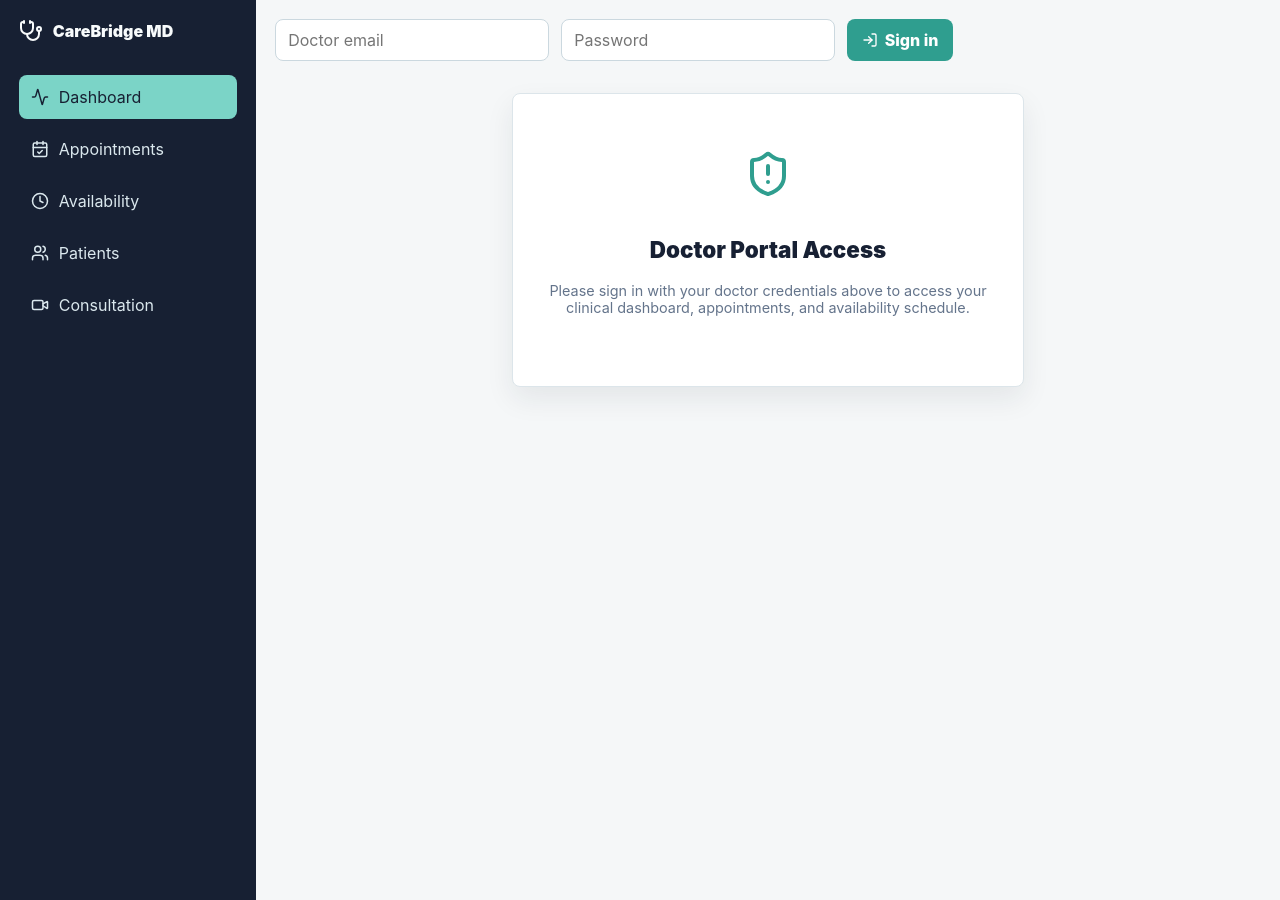
Doctor Dashboard: Real Component Workflow Tests › discards delayed responses from Doctor A session so they cannot overwrite Doctor B session
Note: Doctor A logs in
In the field with placeholder "Doctor email": (412, 40) [275,19,549,61], type "doctorA@example.com"
In the password field with placeholder "Password": (698, 40) [561,19,835,61], type "passA"
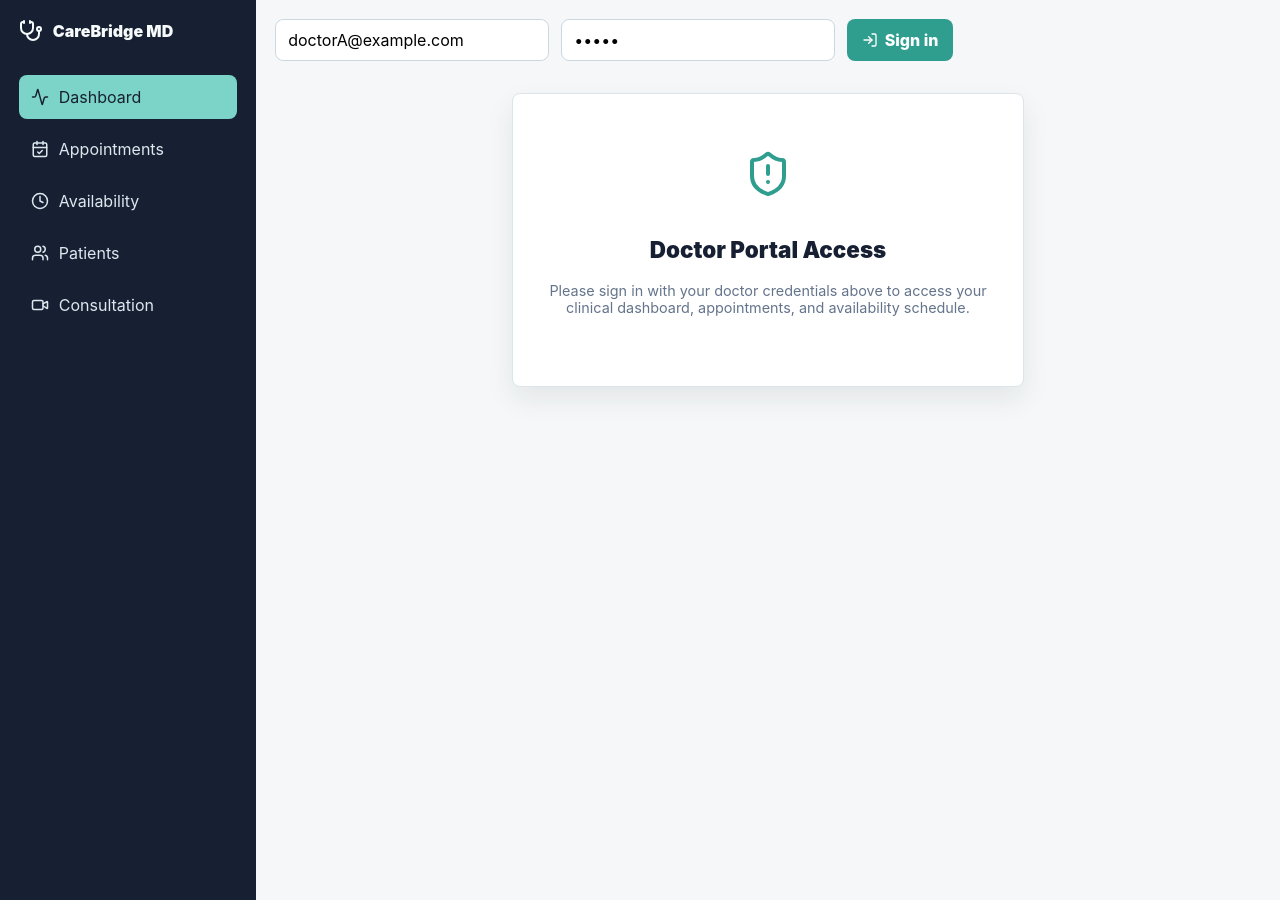
Click the button "Sign in": click(900, 40) [847,19,953,61]
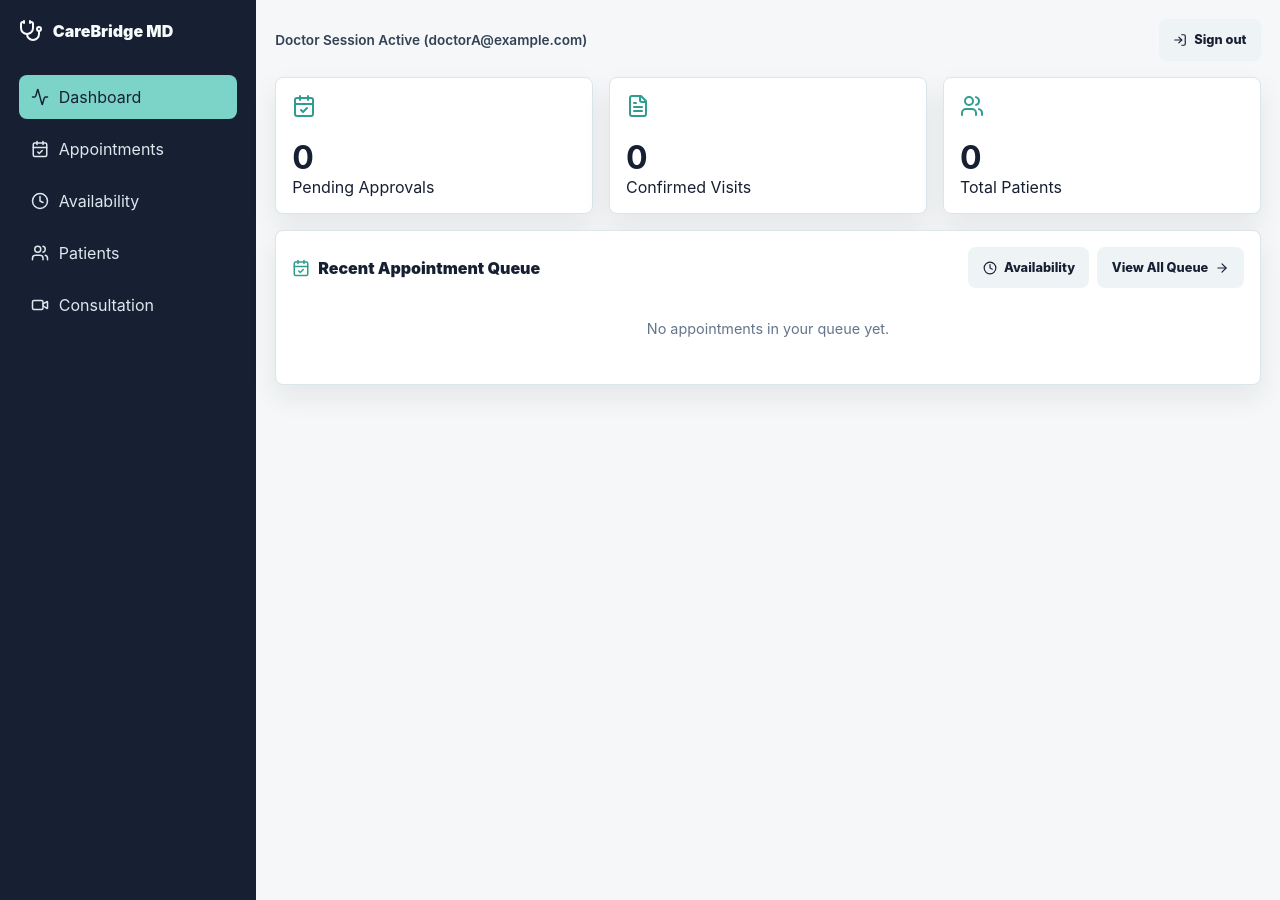
Now the text "Doctor Session Active (doctorA@example.com)" is shown, box [275,32,587,48]
Note: While Doctor A appointment request is still in-flight, Doctor A logs out
Click the button "Sign out": click(1210, 40) [1159,19,1261,61]
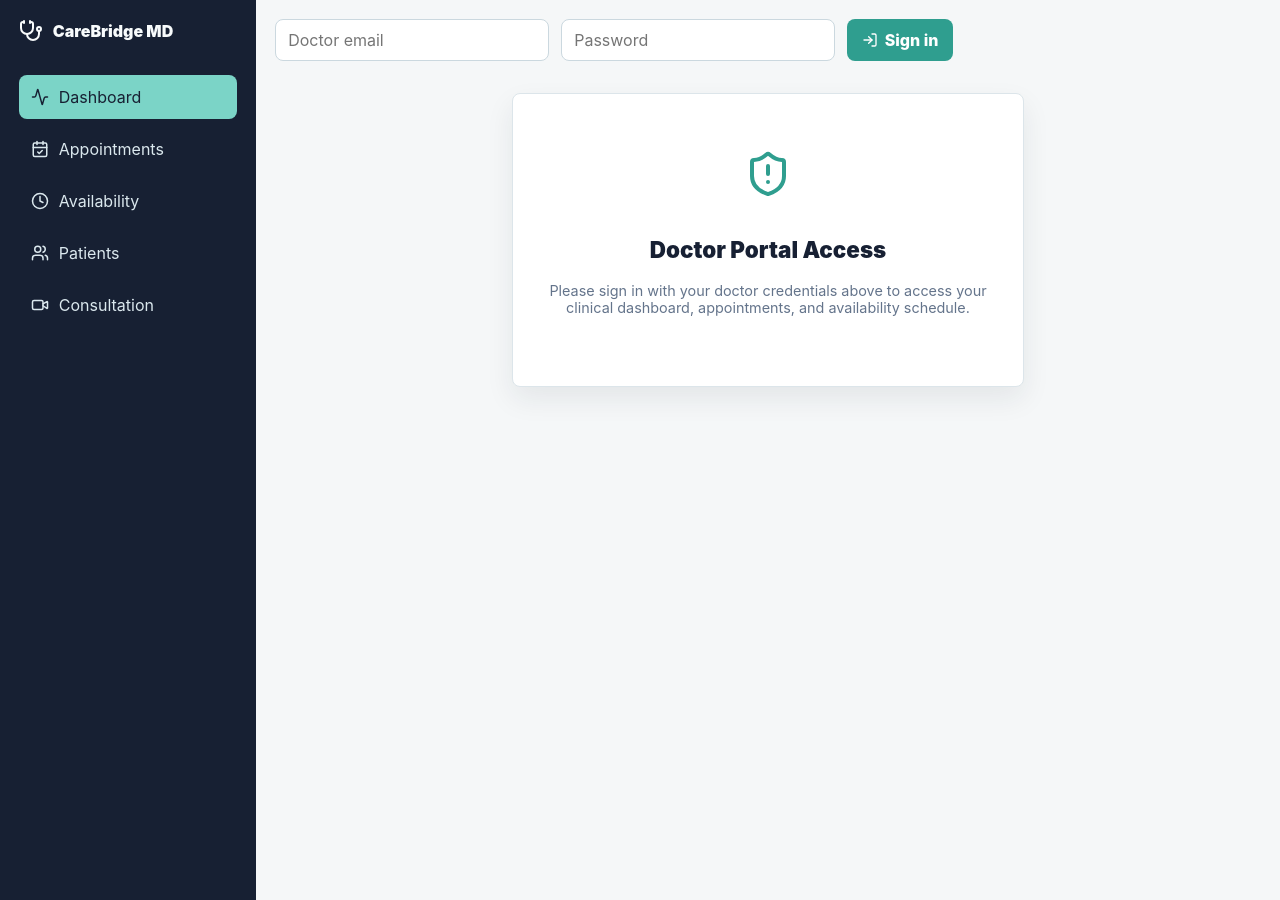
Now the heading "Doctor Portal Access" is shown, box [650,236,886,263]
Note: Doctor B logs in immediately
In the field with placeholder "Doctor email": (412, 40) [275,19,549,61], type "doctorB@example.com"
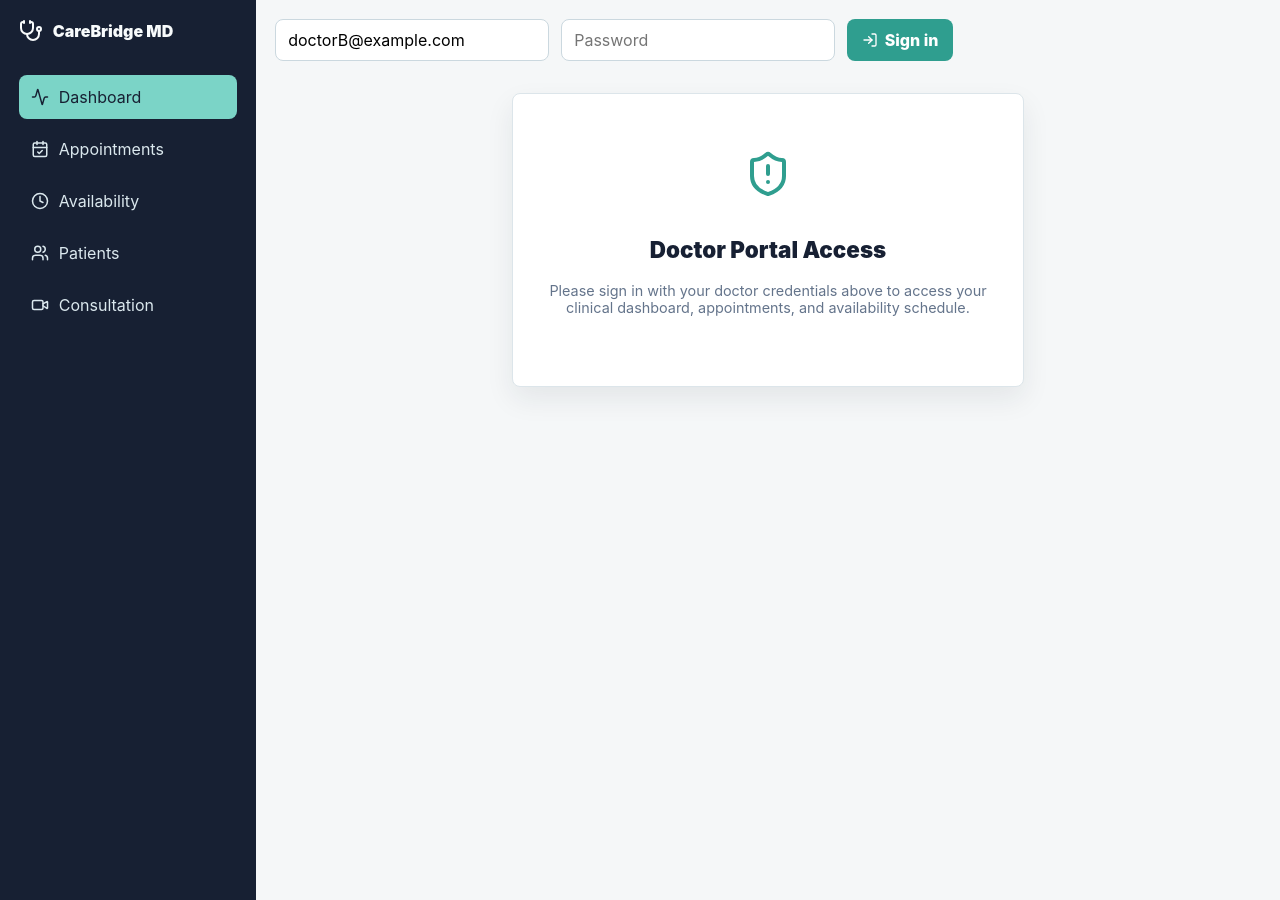
In the password field with placeholder "Password": (698, 40) [561,19,835,61], type "passB"
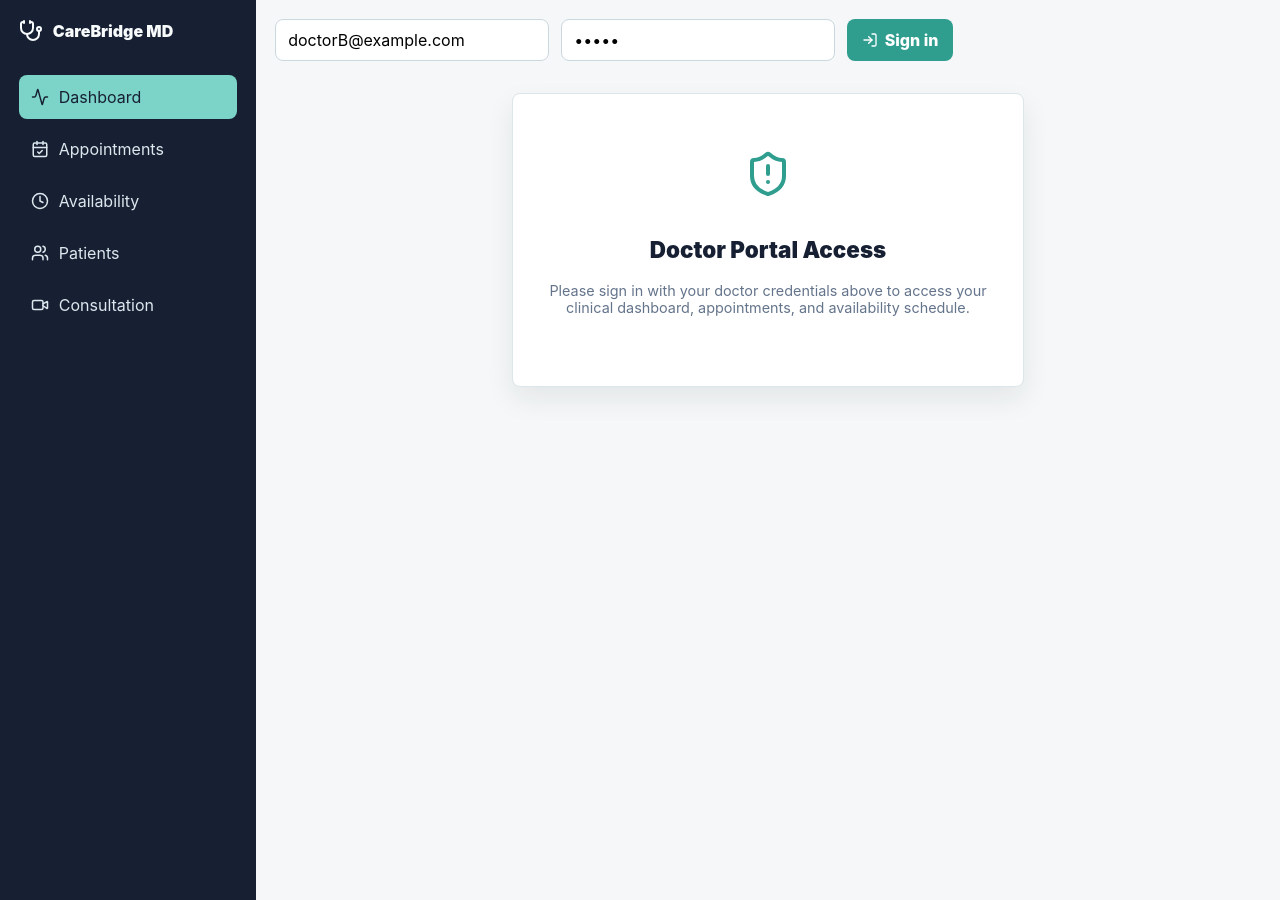
Click the button "Sign in": click(900, 40) [847,19,953,61]
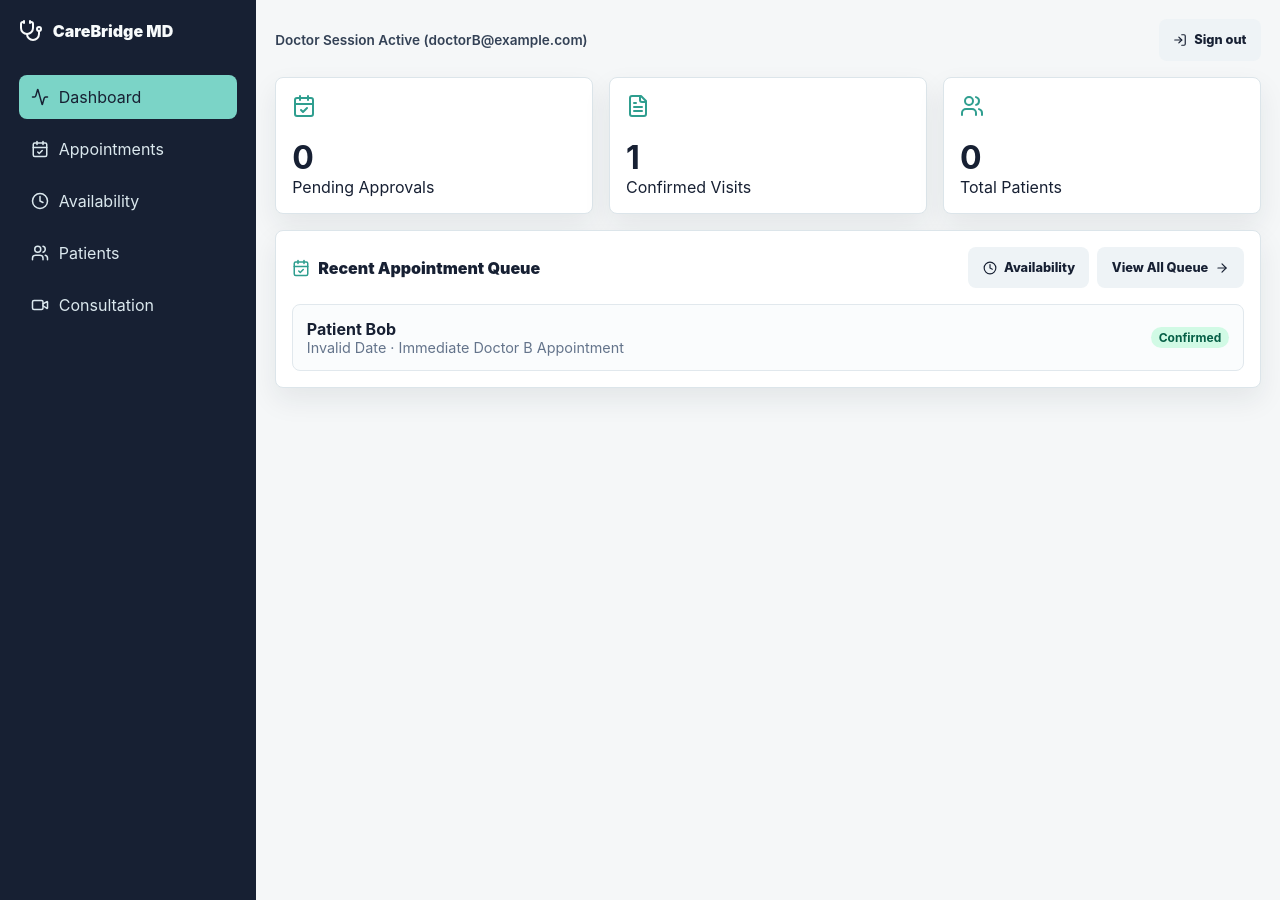
Now the text "Patient Bob" is shown, box [307,319,396,339]
Now the text "Invalid Date · Immediate Doctor B Appointment" is shown, box [307,339,624,356]
